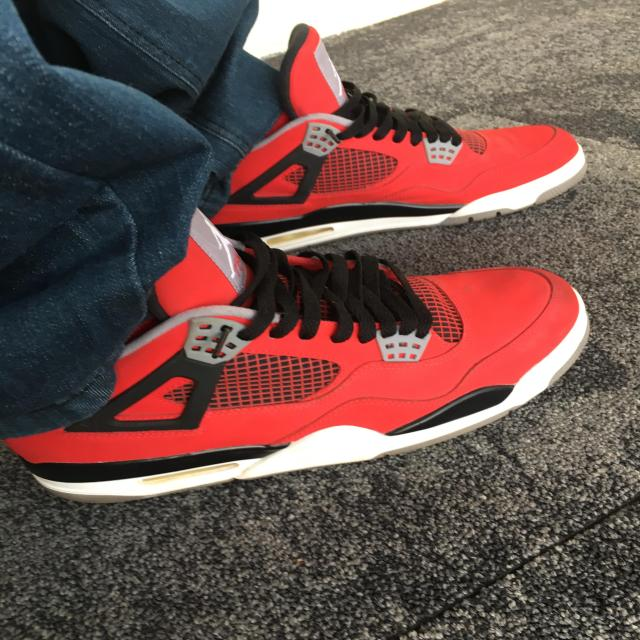shoe: (1, 208, 598, 506), (192, 22, 590, 252)
